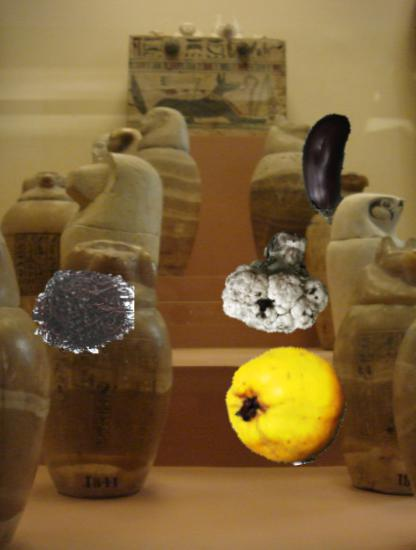Cauliflower: (223, 227, 333, 337)
Eggplant: (267, 110, 382, 225)
Quince: (226, 344, 349, 467)
Rambutan: (32, 261, 135, 364)
